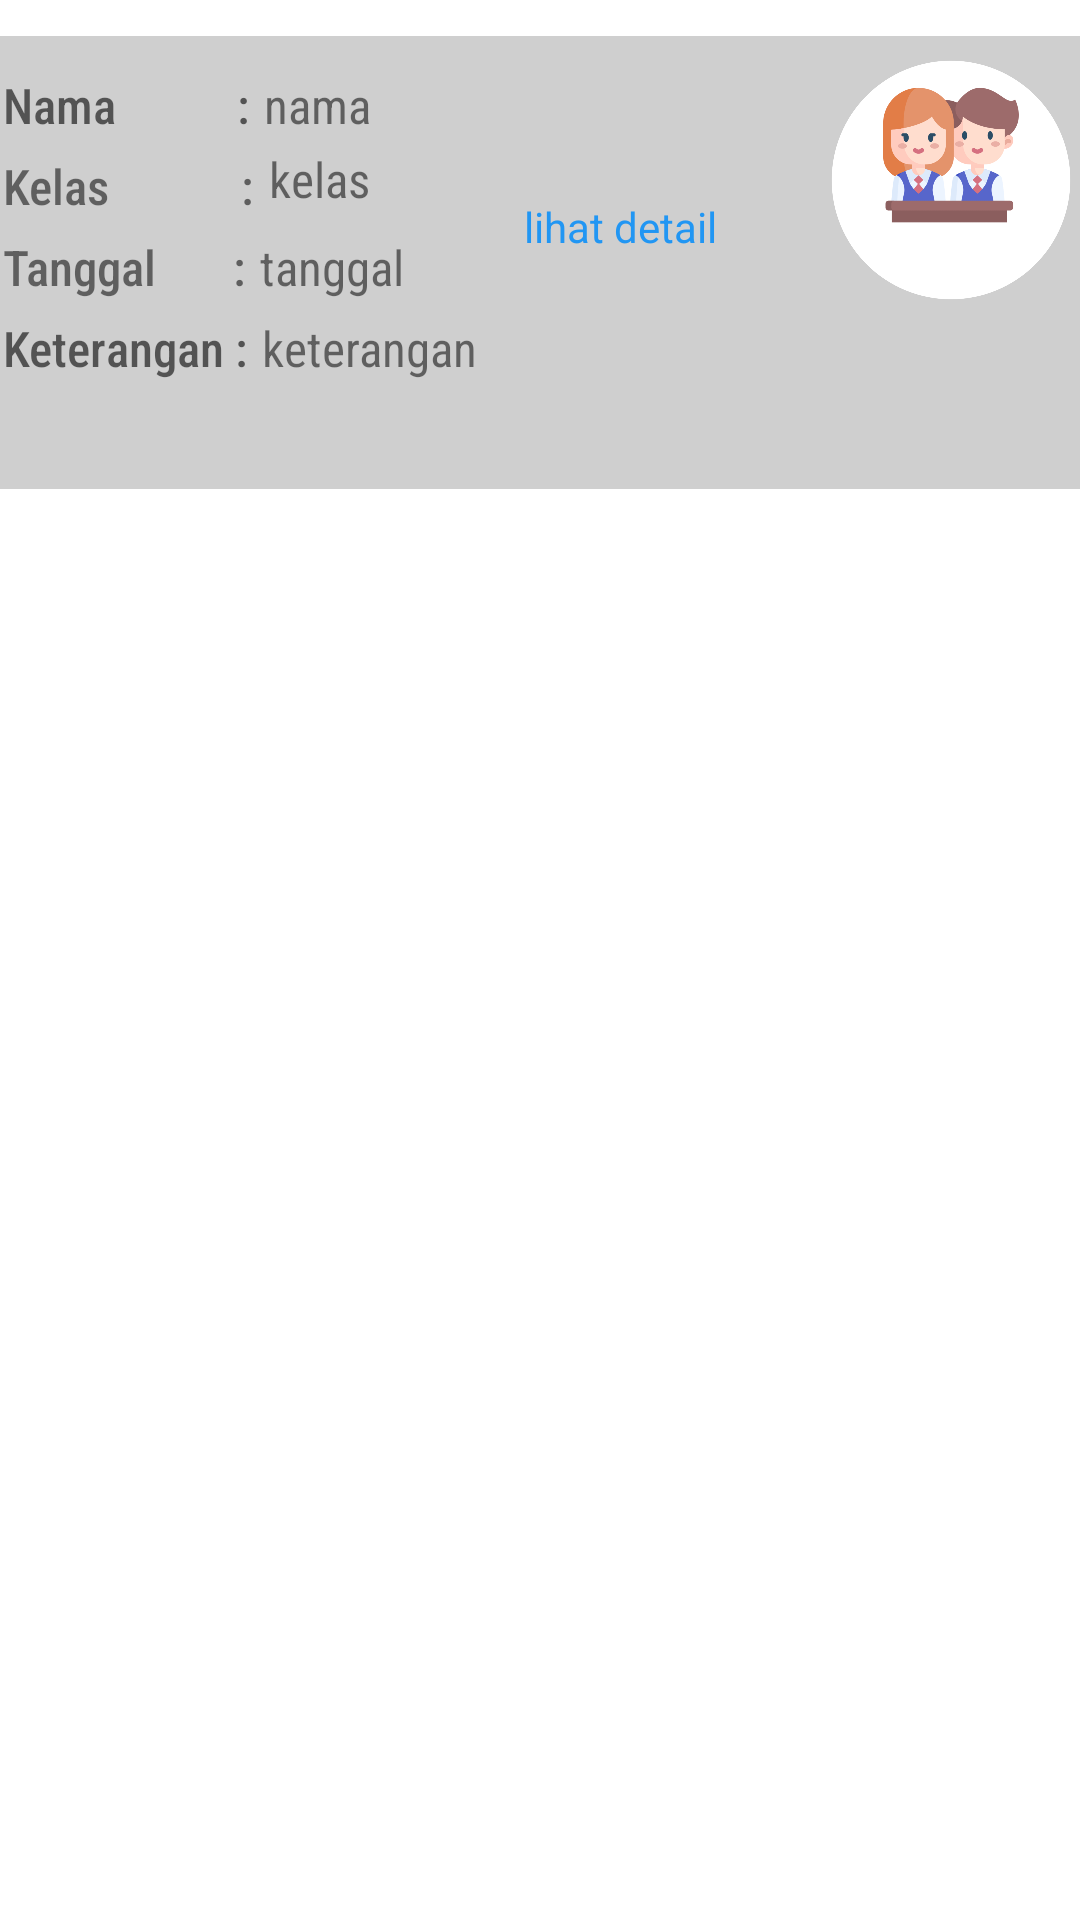

Named icons in this screenshot (1080px x 1920px) and their bounding boxes, {"left": x1, "top": y1, "right": x2, "bottom": y2}:
murid: {"left": 832, "top": 61, "right": 1070, "bottom": 299}
